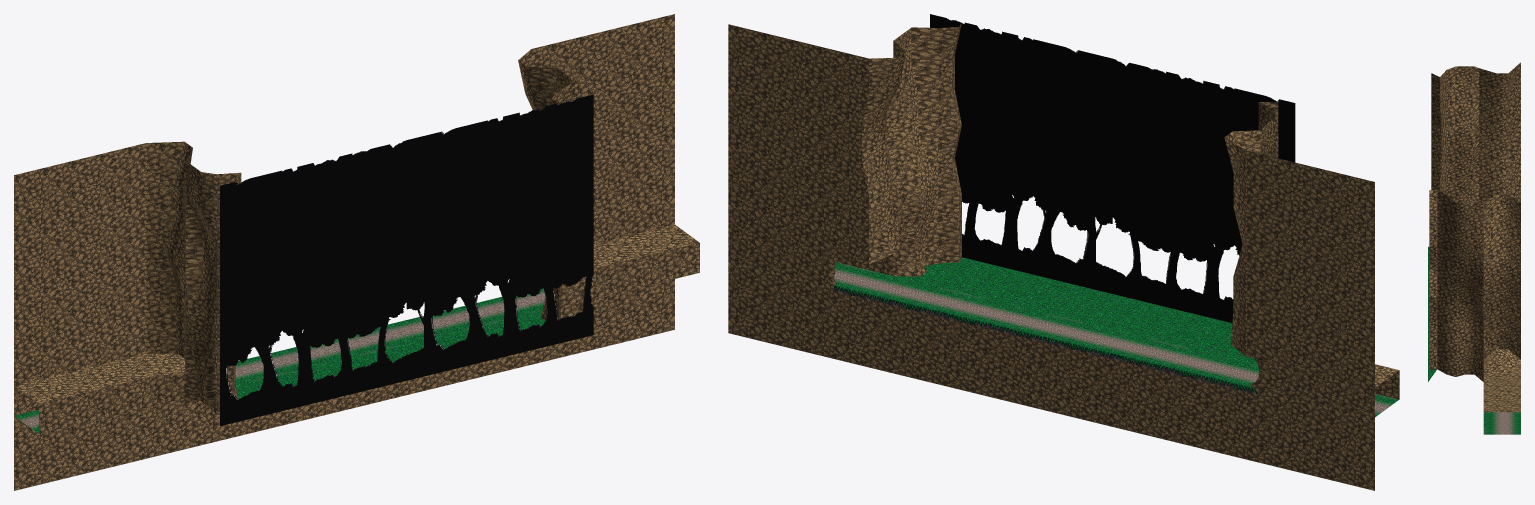
Rendered from Area2_Room21.fbx.
The picture shows the model from 3 angles, left to right: view 1: azimuth 30°, elevation 25°; view 2: azimuth 150°, elevation 25°; view 3: azimuth 270°, elevation 25°; orthographic projection. The views are drawn at different scales.
Visible parts, largest first — view 1: pCube96; view 2: pCube96; view 3: pCube96.
Part boxes in pixels (bbox=[...]): pCube96: bbox=[14, 14, 699, 490]; pCube96: bbox=[728, 14, 1399, 490]; pCube96: bbox=[1428, 62, 1520, 434].
Bounding box in the file's own units: 92 × 42 × 15.
